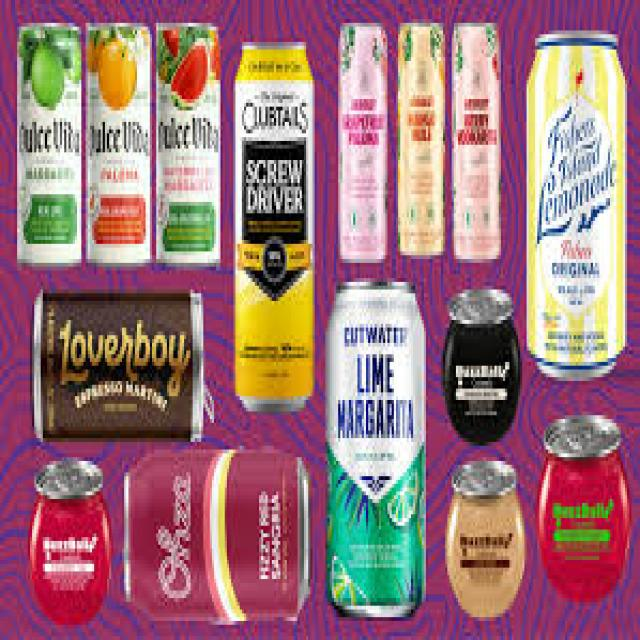Cans: (518, 23, 638, 385), (118, 446, 314, 636), (323, 282, 428, 621), (229, 34, 319, 416), (28, 286, 205, 442), (150, 12, 225, 274), (11, 19, 81, 267), (81, 19, 150, 263), (450, 15, 508, 267), (394, 16, 449, 270), (334, 23, 389, 267)
